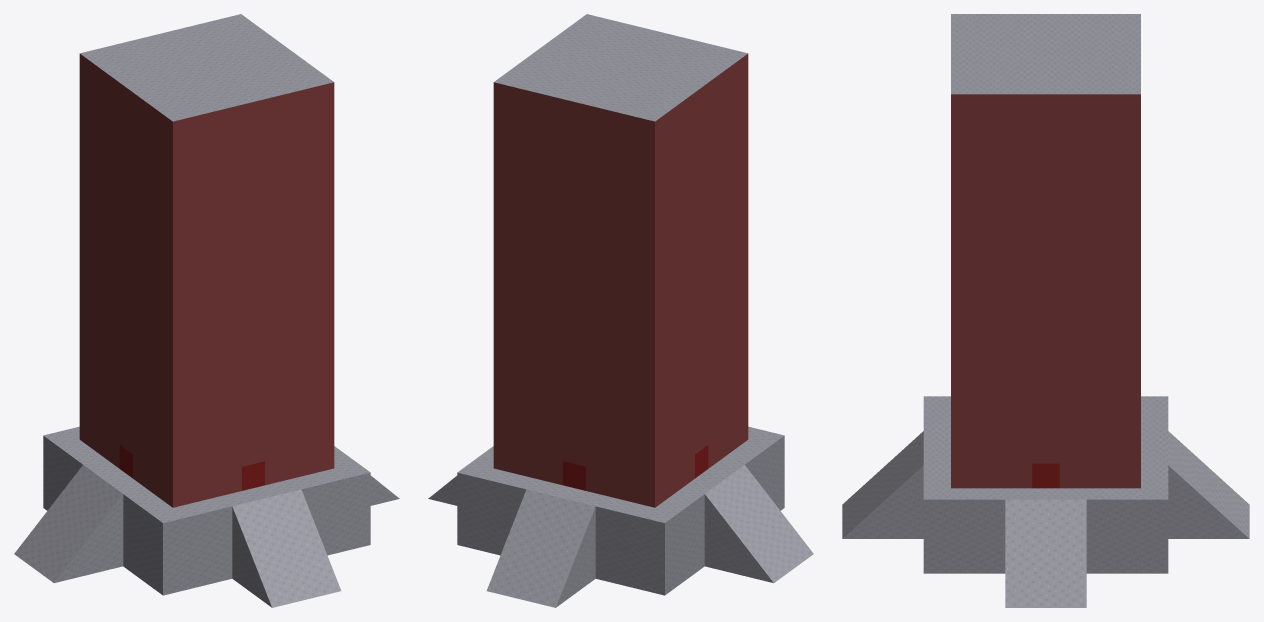
Rendered from Building_Apartment.fbx.
The picture shows the model from 3 angles, left to right: view 1: azimuth 30°, elevation 25°; view 2: azimuth 150°, elevation 25°; view 3: azimuth 270°, elevation 25°; orthographic projection.
Visible parts, largest first — view 1: Building_Apartment001, Building_Base001; view 2: Building_Apartment001, Building_Base001; view 3: Building_Apartment001, Building_Base001.
Part boxes in pixels (x1,y1,x2,y2): Building_Apartment001: (79, 14, 334, 507); Building_Base001: (14, 426, 399, 607); Building_Apartment001: (493, 14, 748, 507); Building_Base001: (428, 426, 813, 607); Building_Apartment001: (951, 14, 1140, 488); Building_Base001: (842, 396, 1249, 607).
Size of the model in its own units: 3000 by 3800 by 3000.
